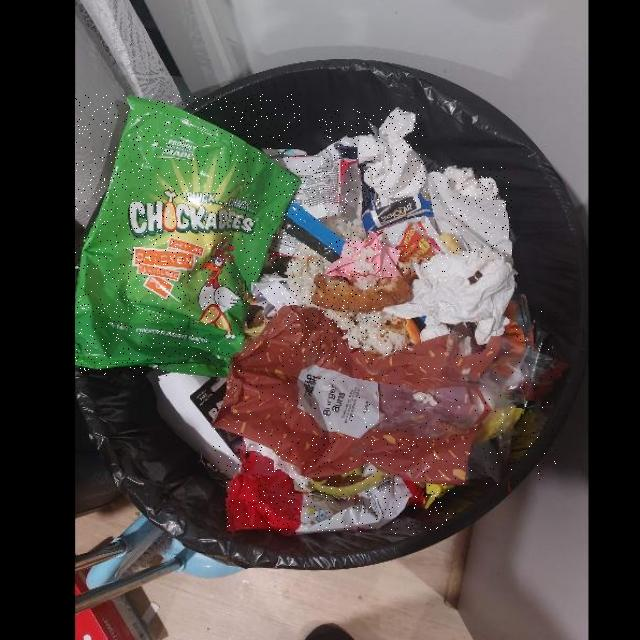biowaste: (287, 248, 421, 355)
paper: (384, 250, 516, 347), (320, 108, 426, 204), (428, 168, 512, 258), (329, 233, 404, 278)
plastic: (213, 305, 557, 488)
wrapper: (76, 95, 302, 378), (227, 438, 456, 534), (270, 156, 347, 221), (373, 218, 449, 282)
